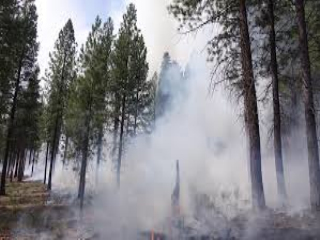fire: (148, 224, 160, 240)
smoke: (163, 46, 249, 222)
